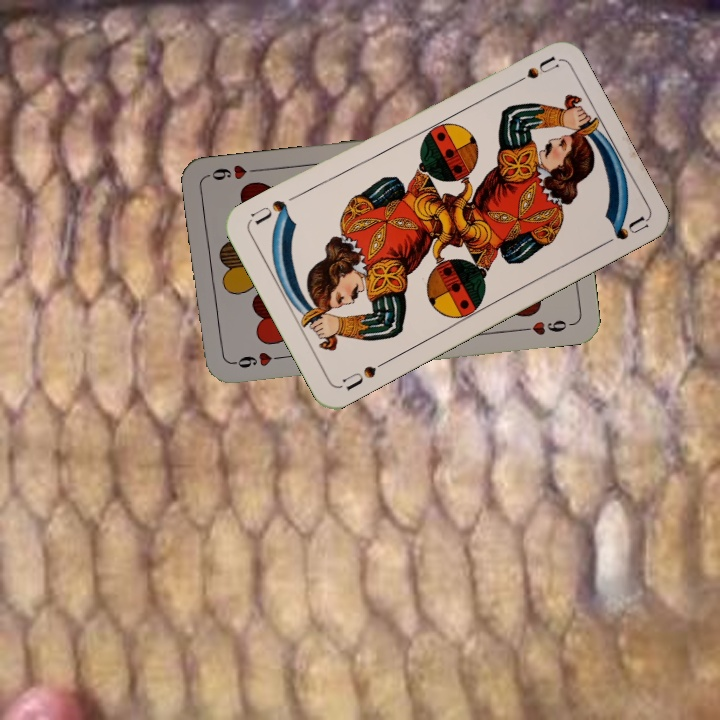H9: (227, 348, 286, 371)
SU: (504, 52, 561, 91), (338, 356, 391, 393)
